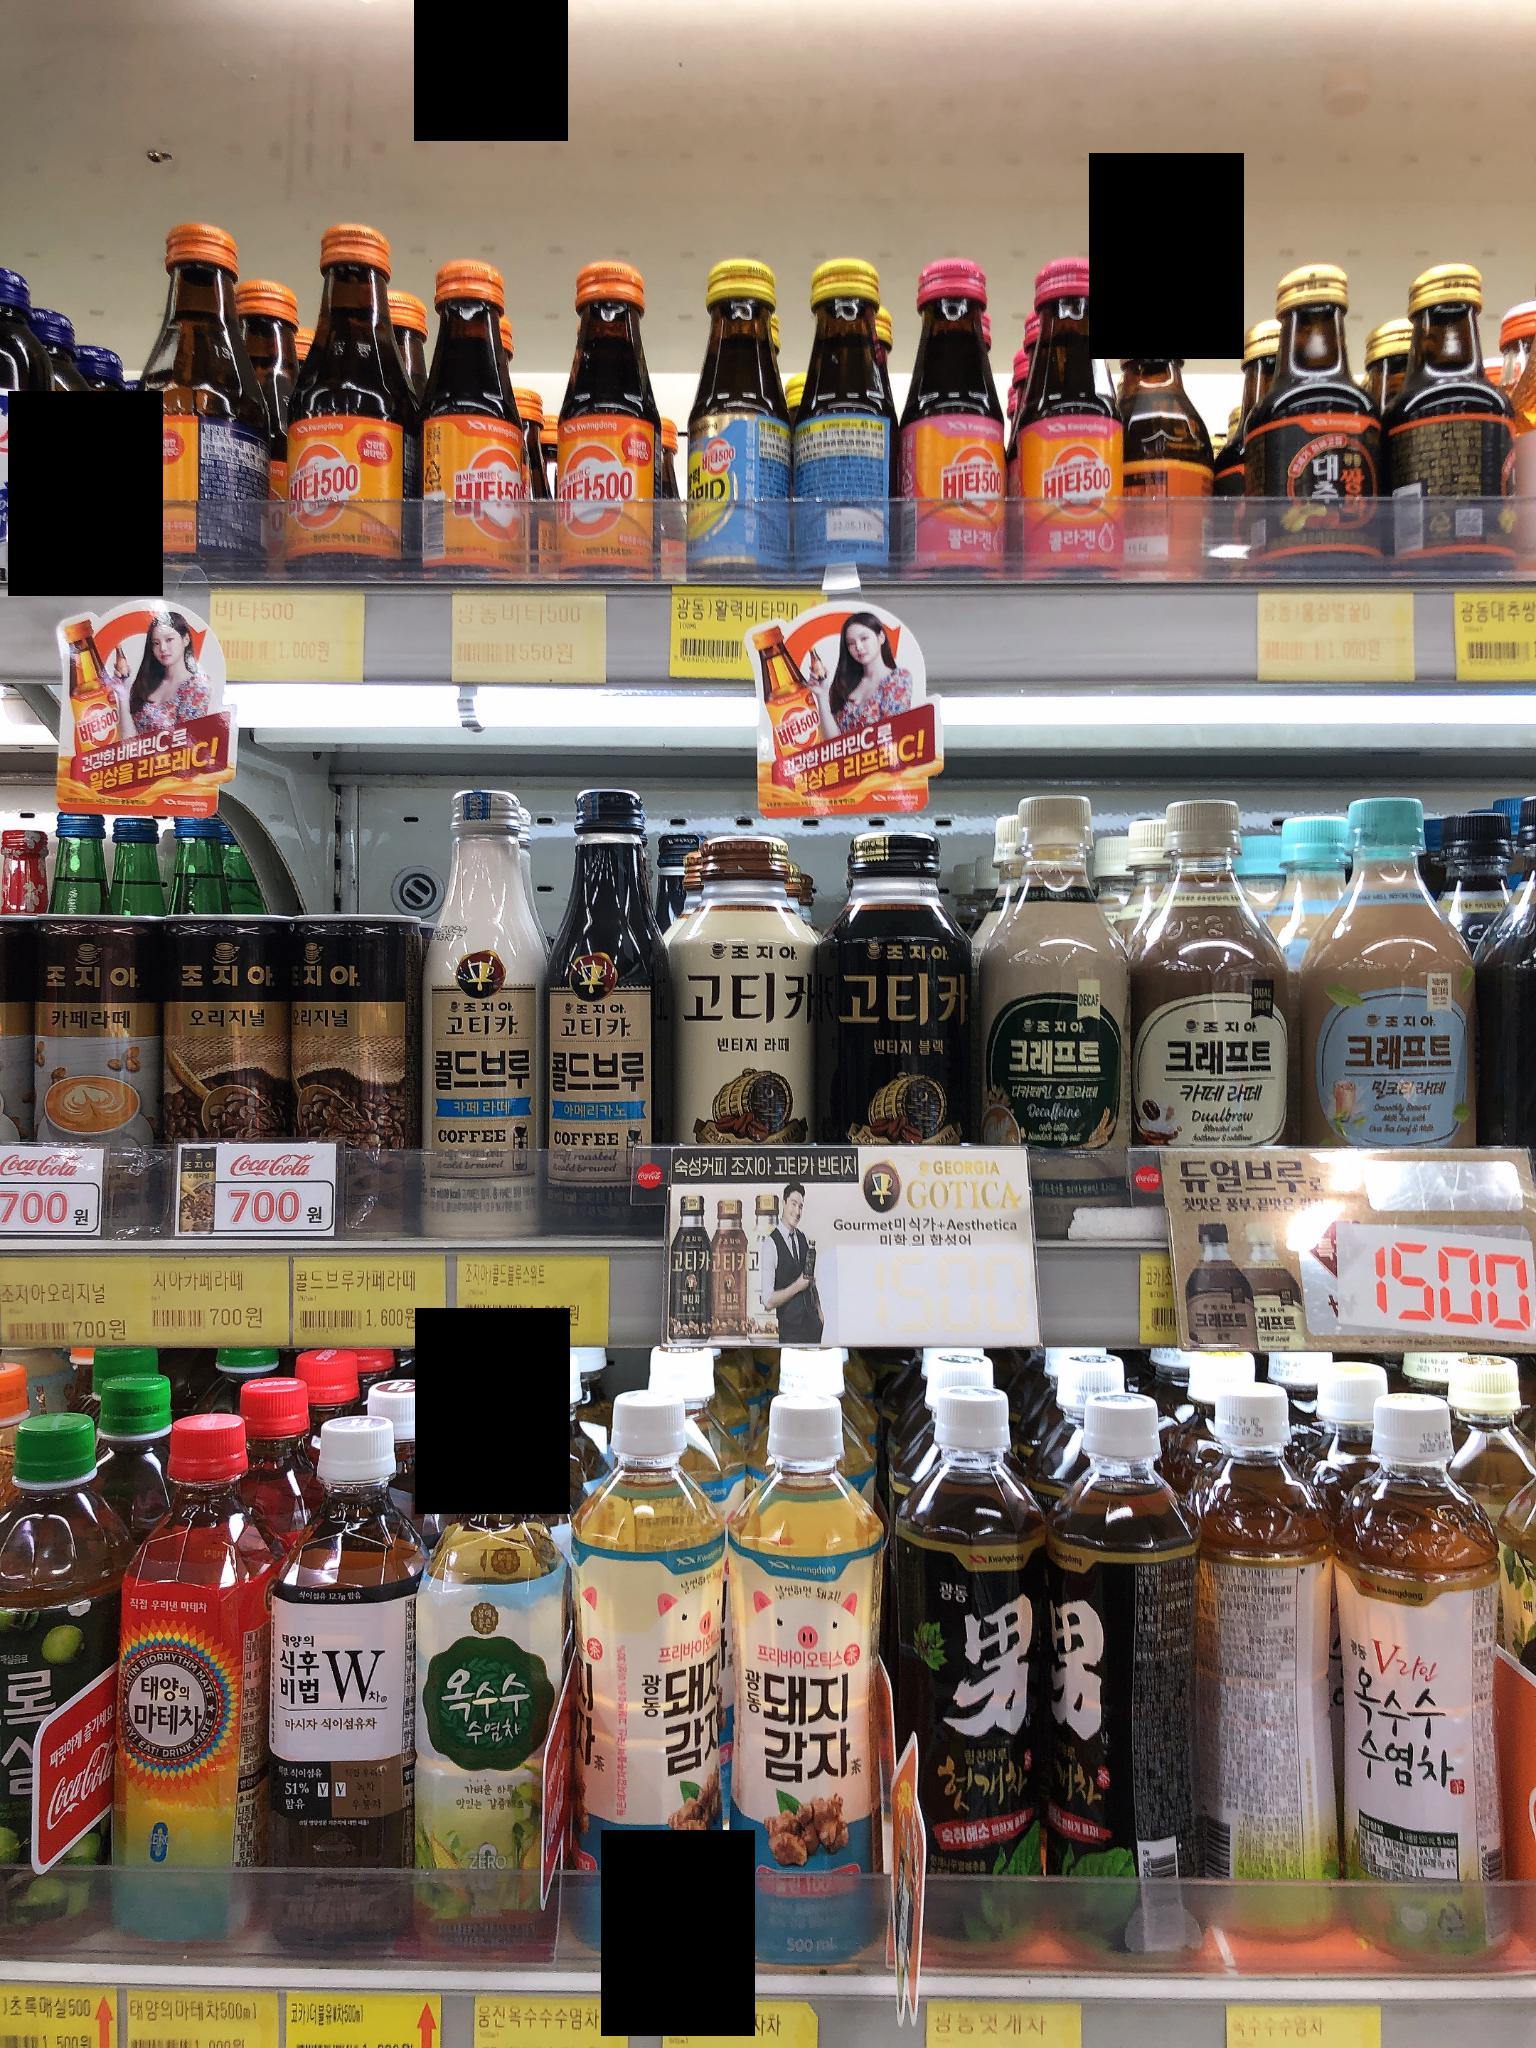heotgaecha: (1049, 1385, 1213, 1974), (876, 1379, 1042, 1961)
oksususuyeomcha: (1178, 1385, 1354, 1963), (1338, 1382, 1504, 1969)
